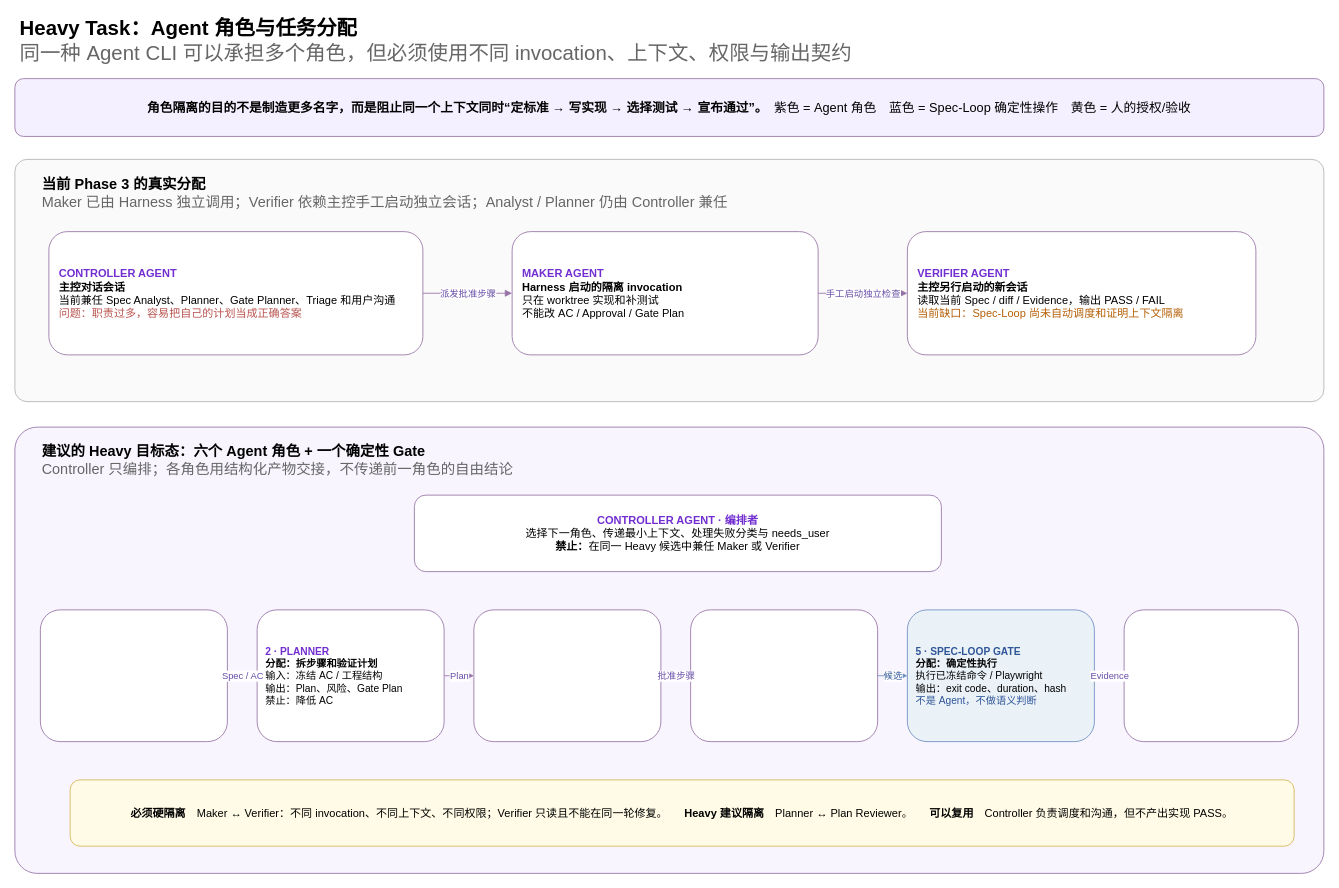
Image size: 1339x888. Some labels were removed from this diagram. Here are the shapes that lost their labels. From the top down, the box of each, then its label:
(40, 609, 227, 742): 1 · SPEC ANALYST 分配：定义问题和边界 输入：用户目标 / 现有规格 输出：Context、Spec、AC 禁止：写实现
(473, 609, 661, 742): 3 · PLAN REVIEWER 分配：对抗性审查计划 新上下文只读 AC / Plan 输出：approve / revise + 缺口 禁止：直接改计划
(690, 609, 878, 742): 4 · MAKER 分配：实现和修复 隔离 worktree / 可写代码 输出：diff、测试、实现说明 禁止：选 Gate、签 PASS
(1123, 609, 1298, 742): 6 · VERIFIER 分配：独立验收审查 全新只读上下文 输入：AC、diff、原子 Evidence 禁止：边验边修
